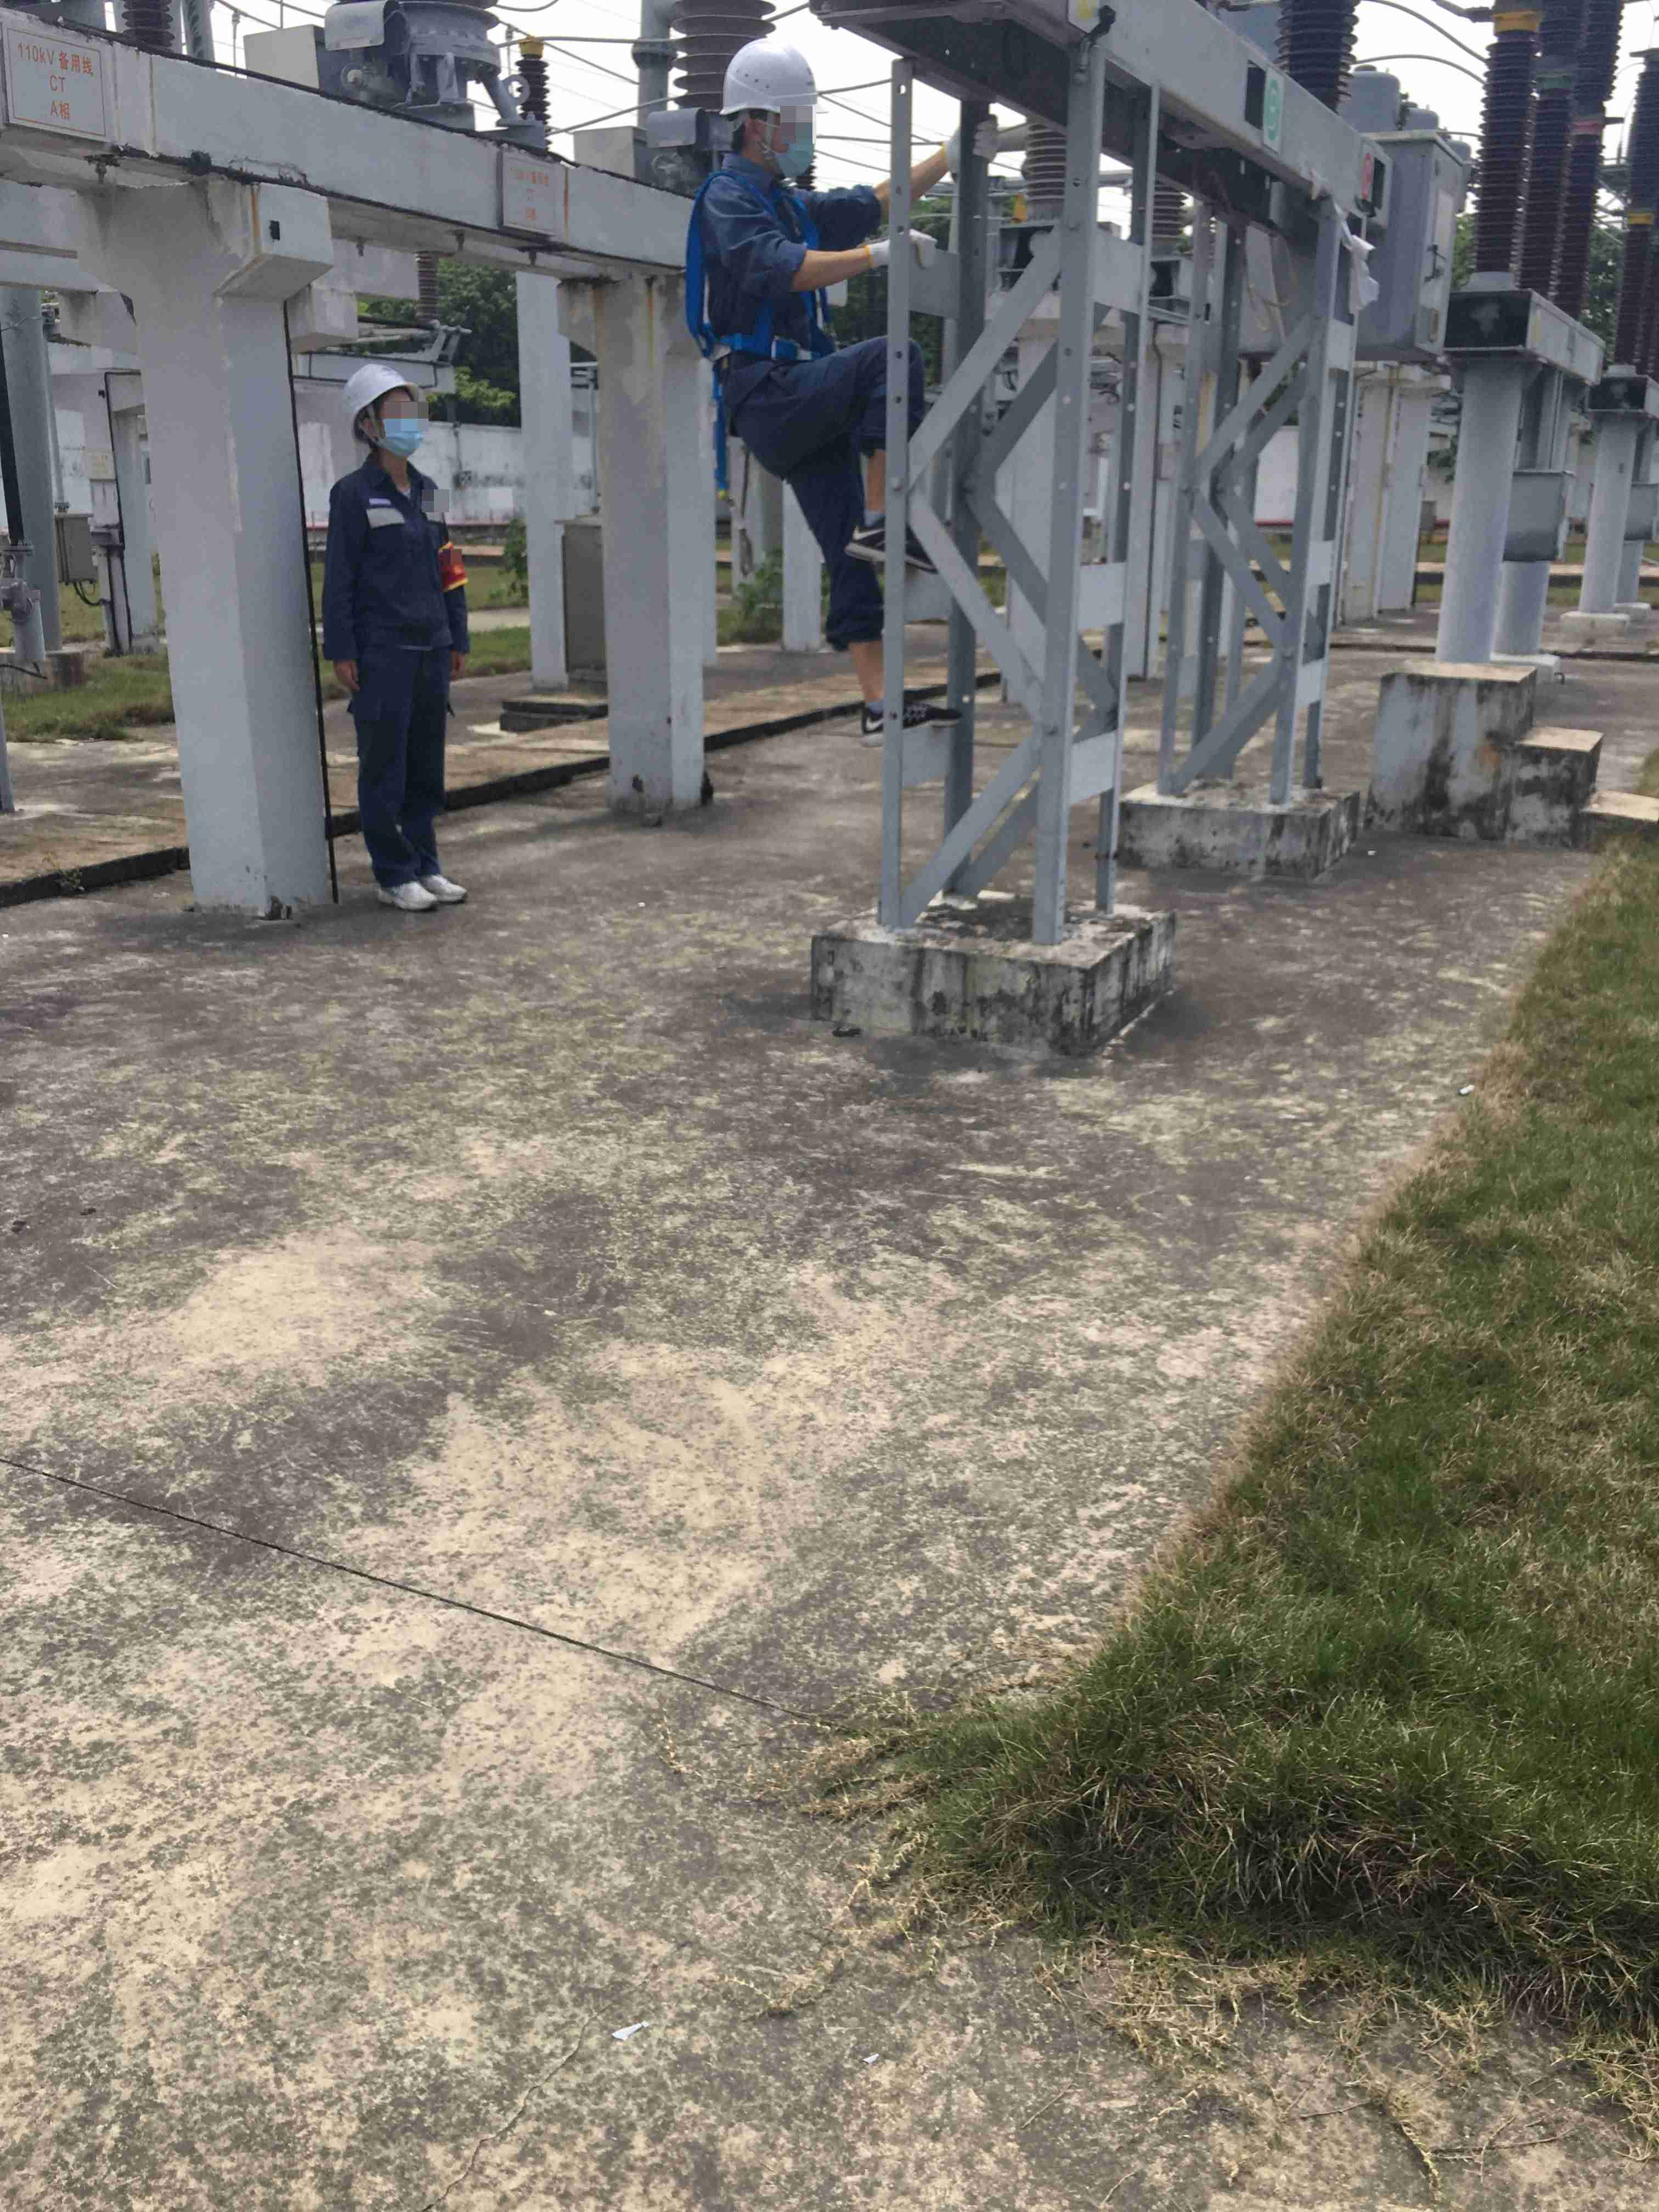downsuit: (718, 336, 929, 653), (350, 648, 458, 885)
upsuit: (687, 155, 882, 357), (324, 453, 474, 660)
wrongbottom: (824, 606, 884, 707), (852, 409, 887, 531)
wrongtop: (852, 152, 948, 240), (760, 237, 871, 300)
